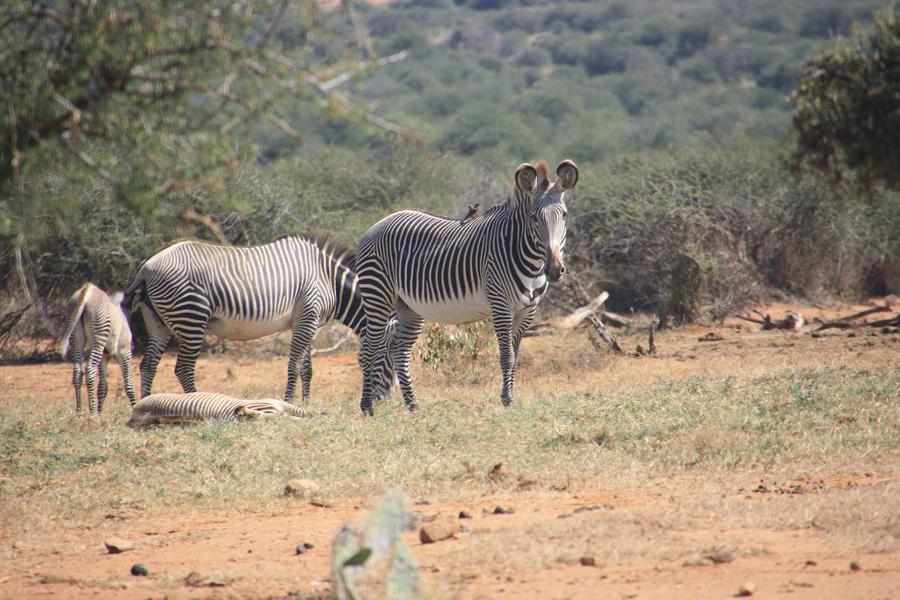zebra_grevys: (355, 198, 518, 305)
